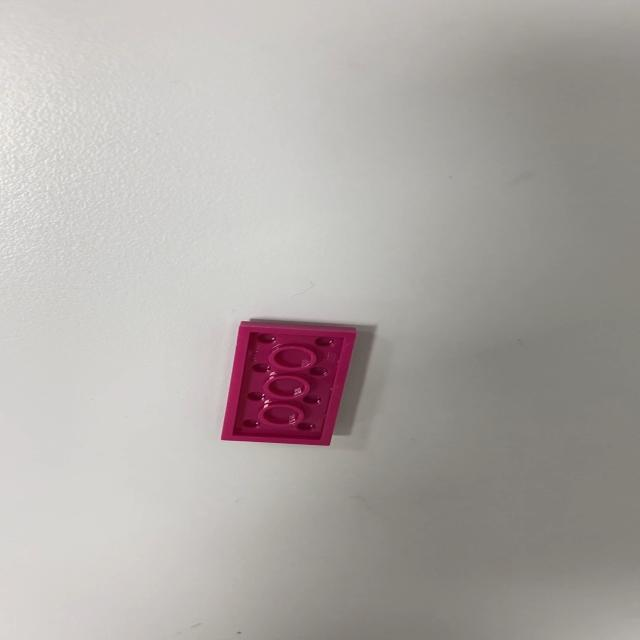C4x2x0: (219, 320, 358, 447)
